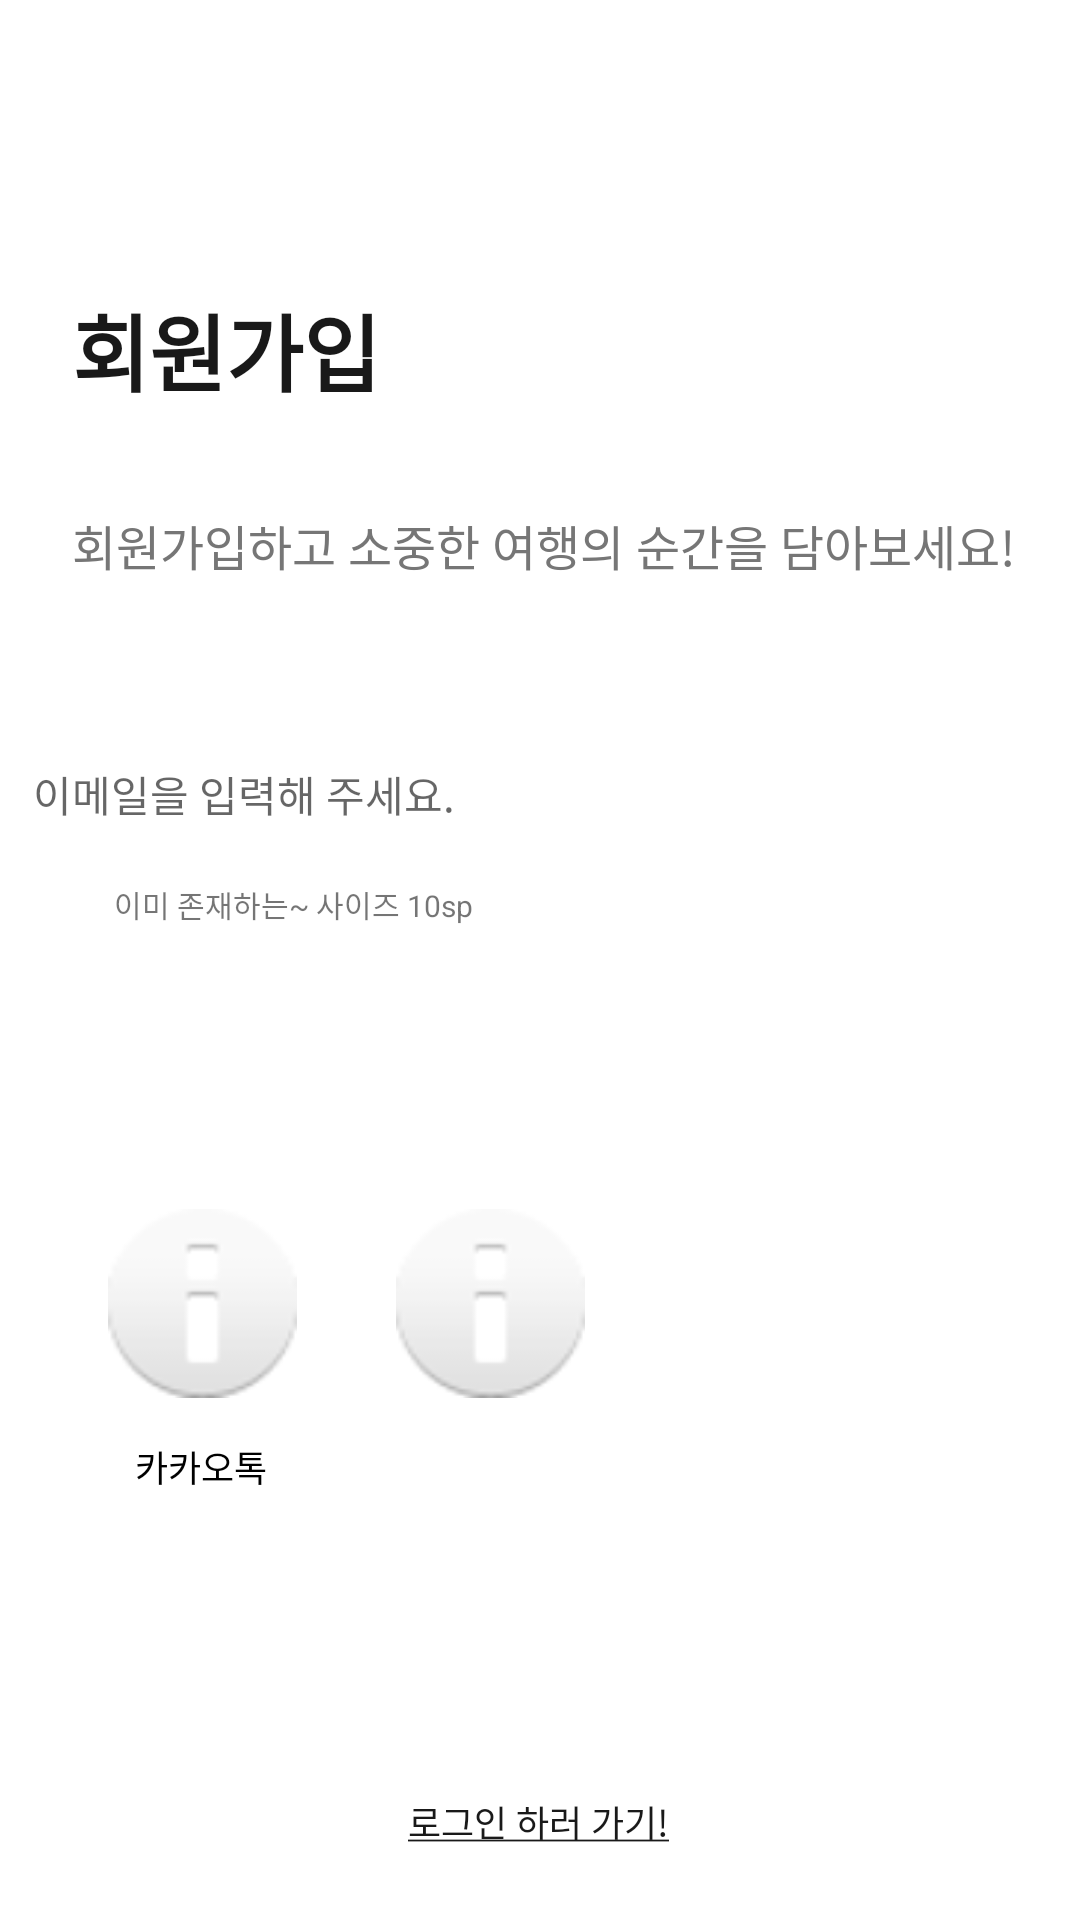

Icons on this 1080px x 1920px Android screen, each with the point to tap as (x,y):
info: (202,1321), (490,1321)
